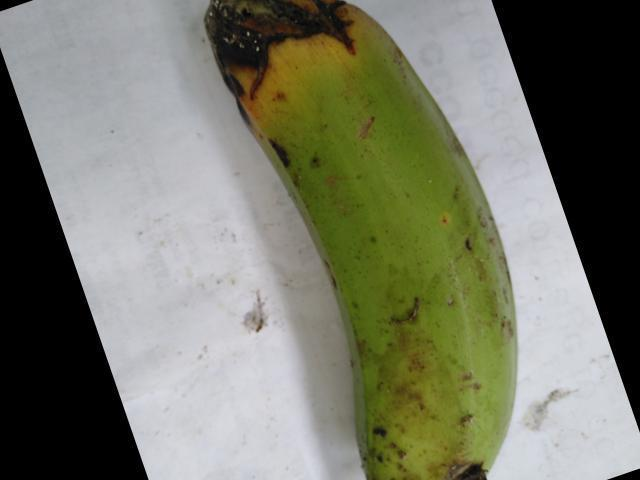rotten: (165, 0, 405, 135)
